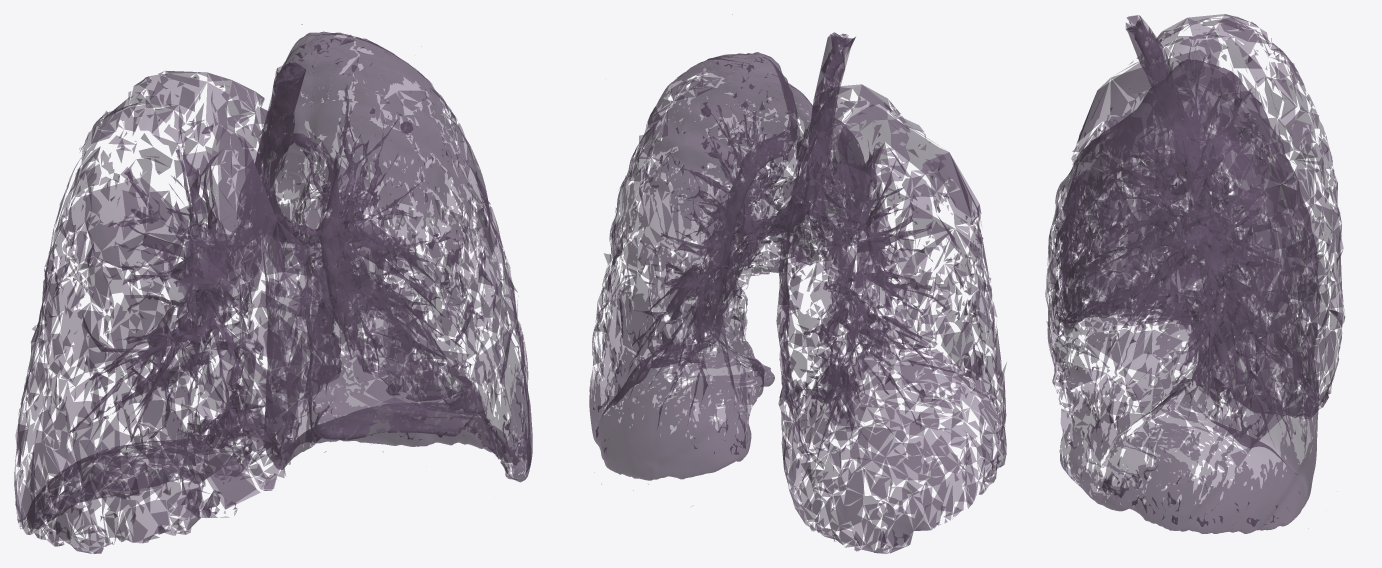
Rendered from lungs.glb.
3 renders of one model, left to right at view 1: azimuth 30°, elevation 25°; view 2: azimuth 150°, elevation 25°; view 3: azimuth 270°, elevation 25°, orthographic. The views are drawn at different scales.
Parts seen in each view (by area): view 1: Pulmones RAW.002, Pulmones RAW.001, Pulmones RAW.002_mtl1.003_0.001, Pulmones RAW.001_mtl1.002_0.003, Pulmones RAW.002_mtl1.003_0.002, Pulmones RAW.001_mtl1.002_0.001, Pulmones RAW.001_mtl1.002_0.002, Pulmones RAW.002_mtl1.003_0.003, Pulmones RAW.002_mtl1.003_0.004, Pulmones RAW.001_mtl1.002_0.004; view 2: Pulmones RAW.002, Pulmones RAW.001, Pulmones RAW.002_mtl1.003_0.001, Pulmones RAW.001_mtl1.002_0.003, Pulmones RAW.001_mtl1.002_0.002, Pulmones RAW.002_mtl1.003_0.002, Pulmones RAW.001_mtl1.002_0.001, Pulmones RAW.002_mtl1.003_0.003, Pulmones RAW.002_mtl1.003_0.004, Pulmones RAW.001_mtl1.002_0.004; view 3: Pulmones RAW.001, Pulmones RAW.001_mtl1.002_0.003, Pulmones RAW.002, Pulmones RAW.001_mtl1.002_0.001, Pulmones RAW.001_mtl1.002_0.002, Pulmones RAW.002_mtl1.003_0.001, Pulmones RAW.001_mtl1.002_0.004, Pulmones RAW.002_mtl1.003_0.002, Pulmones RAW.002_mtl1.003_0.003, Pulmones RAW.002_mtl1.003_0.004.
Part boxes in pixels (<box>): Pulmones RAW.002: <box>14,62,341,553</box>; Pulmones RAW.001: <box>262,31,532,482</box>; Pulmones RAW.002_mtl1.003_0.001: <box>44,81,312,543</box>; Pulmones RAW.001_mtl1.002_0.003: <box>263,24,526,455</box>; Pulmones RAW.002_mtl1.003_0.002: <box>48,190,335,534</box>; Pulmones RAW.001_mtl1.002_0.001: <box>268,35,527,472</box>; Pulmones RAW.001_mtl1.002_0.002: <box>274,88,524,421</box>; Pulmones RAW.002_mtl1.003_0.003: <box>15,285,312,544</box>; Pulmones RAW.002_mtl1.003_0.004: <box>32,261,336,534</box>; Pulmones RAW.001_mtl1.002_0.004: <box>276,97,501,375</box>; Pulmones RAW.002: <box>770,32,1006,553</box>; Pulmones RAW.001: <box>589,52,864,506</box>; Pulmones RAW.002_mtl1.003_0.001: <box>768,83,1006,462</box>; Pulmones RAW.001_mtl1.002_0.003: <box>609,14,861,374</box>; Pulmones RAW.001_mtl1.002_0.002: <box>604,77,845,362</box>; Pulmones RAW.002_mtl1.003_0.002: <box>772,192,997,459</box>; Pulmones RAW.001_mtl1.002_0.001: <box>593,70,854,432</box>; Pulmones RAW.002_mtl1.003_0.003: <box>785,261,1006,548</box>; Pulmones RAW.002_mtl1.003_0.004: <box>780,253,994,509</box>; Pulmones RAW.001_mtl1.002_0.004: <box>610,102,852,301</box>; Pulmones RAW.001: <box>1045,59,1337,533</box>; Pulmones RAW.001_mtl1.002_0.003: <box>1048,60,1318,466</box>; Pulmones RAW.002: <box>1062,14,1345,419</box>; Pulmones RAW.001_mtl1.002_0.001: <box>1054,95,1307,498</box>; Pulmones RAW.001_mtl1.002_0.002: <box>1046,160,1320,428</box>; Pulmones RAW.002_mtl1.003_0.001: <box>1071,17,1330,350</box>; Pulmones RAW.001_mtl1.002_0.004: <box>1047,126,1309,343</box>; Pulmones RAW.002_mtl1.003_0.002: <box>1060,89,1324,361</box>; Pulmones RAW.002_mtl1.003_0.003: <box>1060,205,1342,399</box>; Pulmones RAW.002_mtl1.003_0.004: <box>1062,189,1331,387</box>.
Size of the model in its own units: 8708 by 8946 by 5841.
